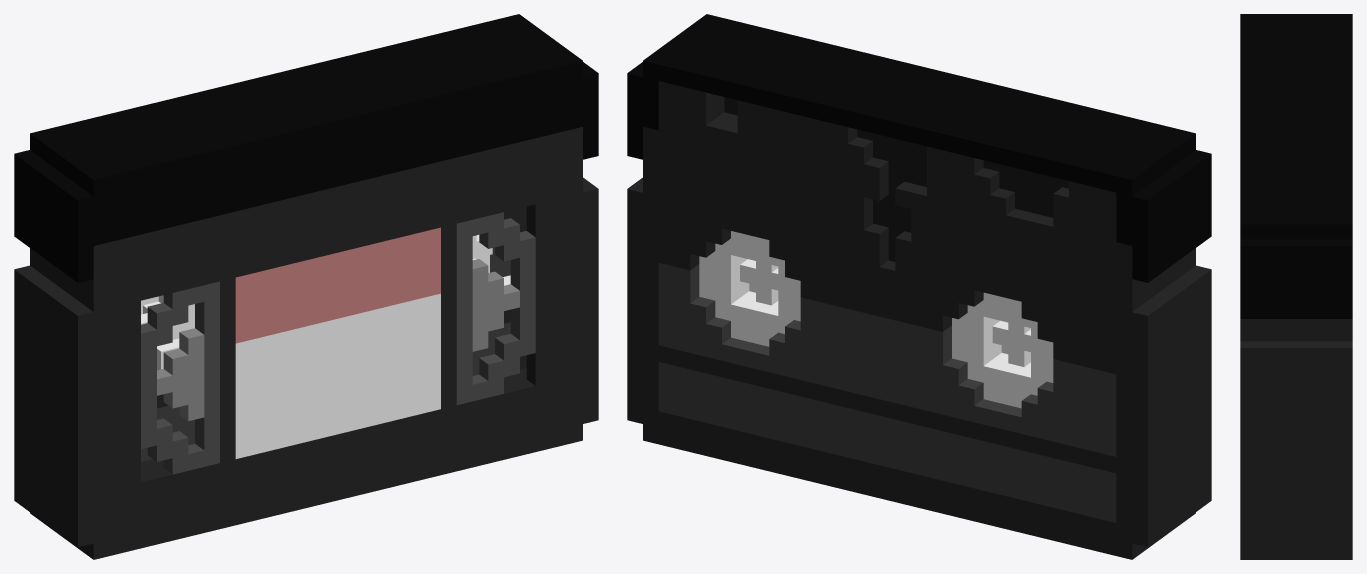
File: EmptyCassette.obj
3 views of the same model, side by side, from view 1: azimuth 30°, elevation 25°; view 2: azimuth 150°, elevation 25°; view 3: azimuth 270°, elevation 25° (orthographic). The views are drawn at different scales.
Size of the model in its own units: 3.3 by 2.3 by 0.7.
